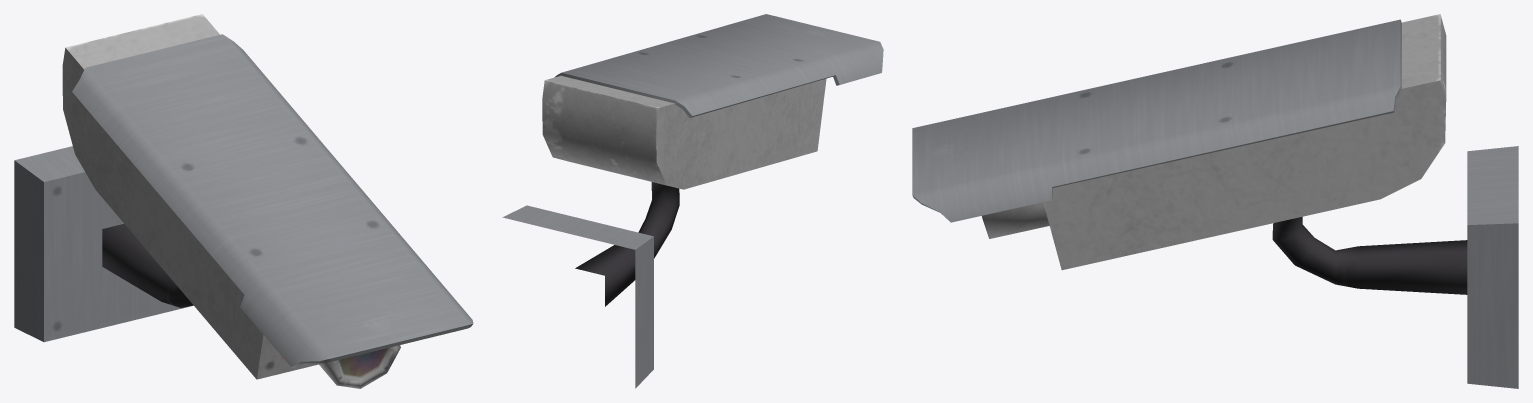
3 renders of one model, left to right at view 1: azimuth 30°, elevation 25°; view 2: azimuth 150°, elevation 25°; view 3: azimuth 270°, elevation 25°, orthographic. The views are drawn at different scales.
Parts seen in each view (by area): view 1: Camera, dz; view 2: Camera, dz; view 3: Camera, dz.
Boxes of the visible parts, x1,y1,x2,y2 form: Camera: (62, 14, 473, 388); dz: (14, 146, 193, 342); Camera: (542, 14, 883, 189); dz: (502, 182, 679, 388); Camera: (912, 14, 1446, 270); dz: (1272, 146, 1518, 388).
Bounding box in the file's own units: 0.1291 × 0.2093 × 0.3793.
Materials: 1 (1 with a texture image).
